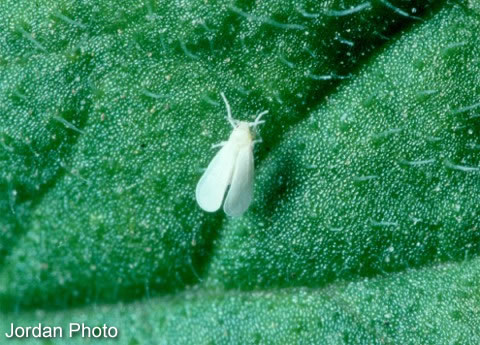Tobacco Whitefly: (187, 109, 269, 222)
